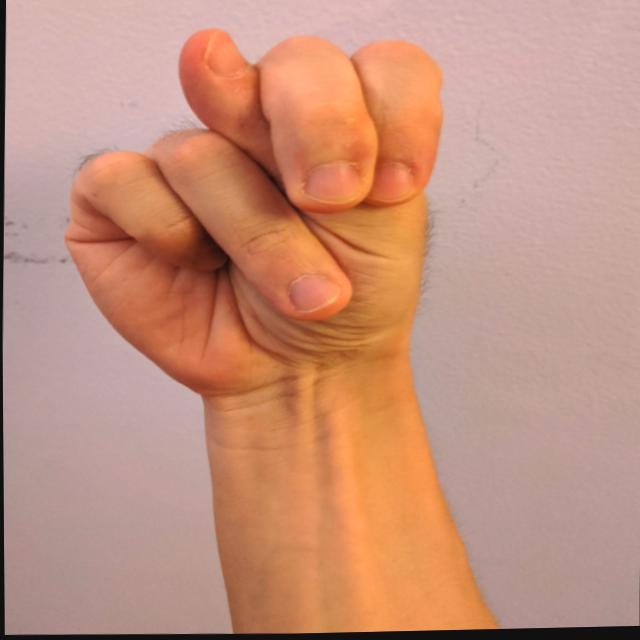N: (52, 13, 455, 411)
